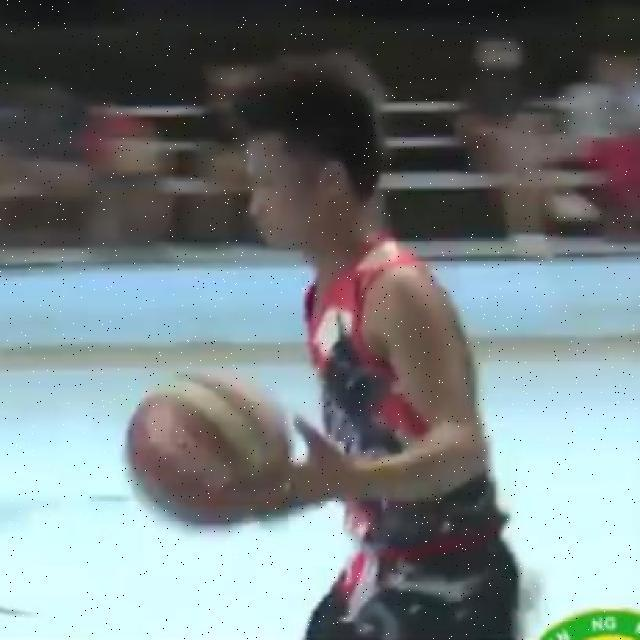ball: (116, 361, 302, 537)
